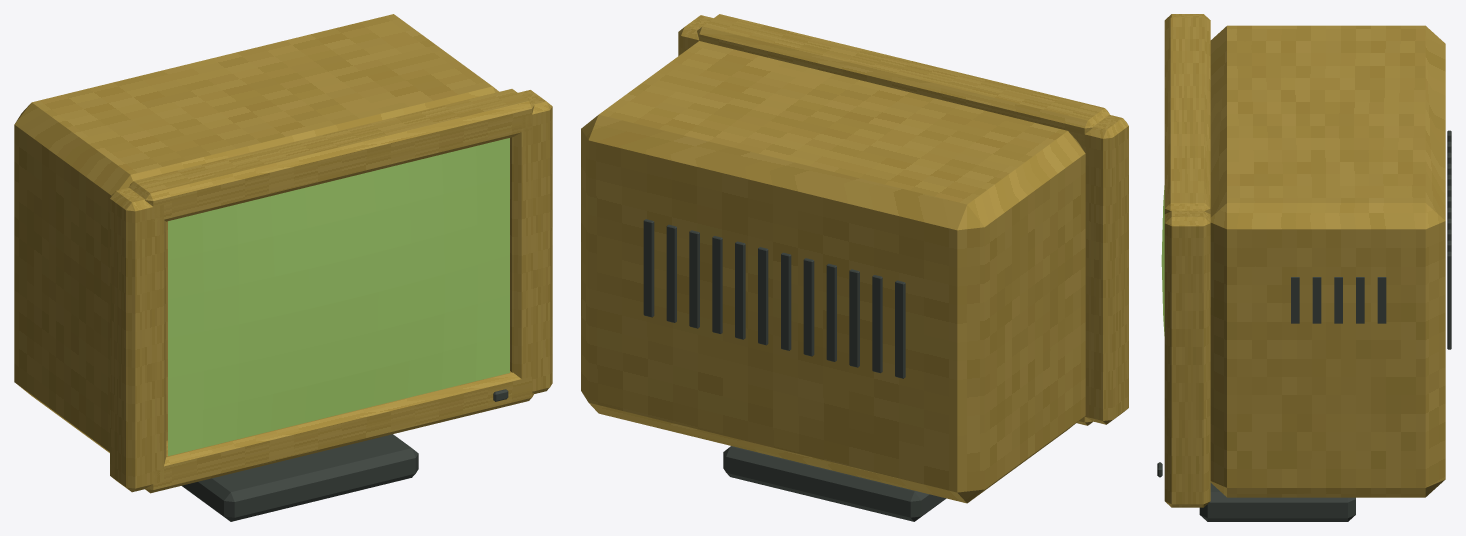
Rendered from retro_monitor_v4.glb.
3 renders of one model, left to right at view 1: azimuth 30°, elevation 25°; view 2: azimuth 150°, elevation 25°; view 3: azimuth 270°, elevation 25°, orthographic.
Parts seen in each view (by area): view 1: Tela convexa, Gabinete profundo, Moldura horizontal.001, Moldura lateral, Moldura horizontal, Moldura lateral.001, Pe CRT; view 2: Gabinete profundo, Moldura lateral, Moldura horizontal.001, Pe CRT, Respiro traseiro.004, Respiro traseiro.011, Respiro traseiro.006, Respiro traseiro.010, Respiro traseiro.002, Respiro traseiro.001, Respiro traseiro.003, Respiro traseiro.009 (+5 smaller); view 3: Gabinete profundo, Moldura lateral.001, Moldura horizontal.001, Pe CRT, Respiro traseiro.011, Respiro lateral, Respiro lateral.003, Respiro lateral.001, Respiro lateral.002, Respiro lateral.004, Tela convexa.
Part boxes in pixels (x1=…): Tela convexa: x1=168, y1=138, x2=509, y2=456; Gabinete profundo: x1=14, y1=14, x2=498, y2=452; Moldura horizontal.001: x1=128, y1=89, x2=534, y2=221; Moldura lateral: x1=110, y1=188, x2=166, y2=492; Moldura horizontal: x1=145, y1=371, x2=533, y2=493; Moldura lateral.001: x1=510, y1=90, x2=552, y2=393; Pe CRT: x1=181, y1=434, x2=418, y2=521; Gabinete profundo: x1=581, y1=41, x2=1085, y2=503; Moldura lateral: x1=1074, y1=115, x2=1128, y2=424; Moldura horizontal.001: x1=697, y1=14, x2=1109, y2=149; Pe CRT: x1=723, y1=446, x2=946, y2=521; Respiro traseiro.004: x1=803, y1=258, x2=814, y2=356; Respiro traseiro.011: x1=643, y1=219, x2=654, y2=317; Respiro traseiro.006: x1=758, y1=247, x2=768, y2=345; Respiro traseiro.010: x1=666, y1=224, x2=676, y2=322; Respiro traseiro.002: x1=849, y1=269, x2=859, y2=367; Respiro traseiro.001: x1=872, y1=275, x2=882, y2=373; Respiro traseiro.003: x1=826, y1=263, x2=836, y2=361; Respiro traseiro.009: x1=689, y1=230, x2=699, y2=328; Gabinete profundo: x1=1210, y1=25, x2=1445, y2=497; Moldura lateral.001: x1=1164, y1=210, x2=1210, y2=507; Moldura horizontal.001: x1=1164, y1=17, x2=1210, y2=214; Pe CRT: x1=1199, y1=483, x2=1355, y2=521; Respiro traseiro.011: x1=1447, y1=251, x2=1451, y2=349; Respiro lateral: x1=1377, y1=277, x2=1386, y2=323; Respiro lateral.003: x1=1312, y1=277, x2=1321, y2=323; Respiro lateral.001: x1=1356, y1=277, x2=1364, y2=323; Respiro lateral.002: x1=1334, y1=277, x2=1342, y2=323; Respiro lateral.004: x1=1291, y1=277, x2=1299, y2=323; Tela convexa: x1=1161, y1=185, x2=1164, y2=335.
Bounding box in the file's own units: 0.57 × 0.4675 × 0.3395.
3 materials, 1 textured.
